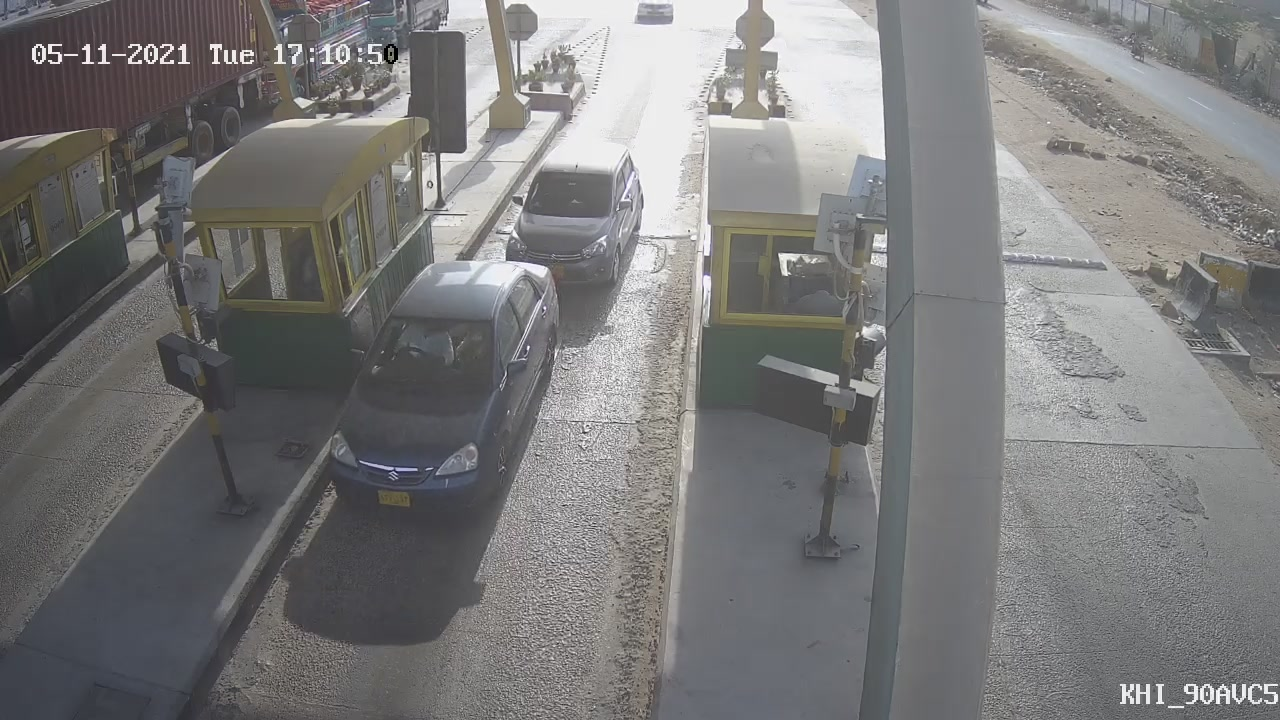F1: (307, 242, 582, 530), (486, 130, 664, 312)
